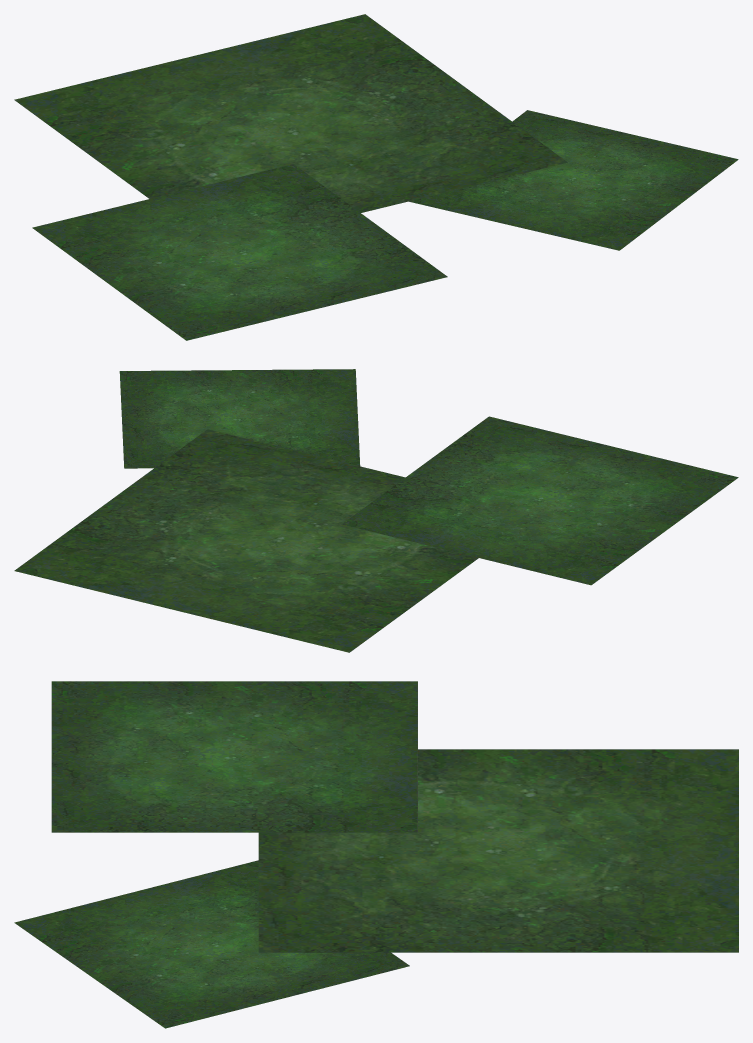
The model's file is stemple_floor_decal_05.fbx.
The picture shows the model from 3 angles, top to bottom: view 1: azimuth 30°, elevation 25°; view 2: azimuth 150°, elevation 25°; view 3: azimuth 270°, elevation 25°; orthographic projection. The views are drawn at different scales.
Parts seen in each view (by area): view 1: stemple_floor_decal_05-0; view 2: stemple_floor_decal_05-0; view 3: stemple_floor_decal_05-0.
Boxes of the visible parts, x1,y1,x2,y2 form: stemple_floor_decal_05-0: (14,14,738,340); stemple_floor_decal_05-0: (14,369,738,652); stemple_floor_decal_05-0: (14,681,738,1028).
Bounding box in the file's own units: 11.22 × 0.002 × 9.9.
